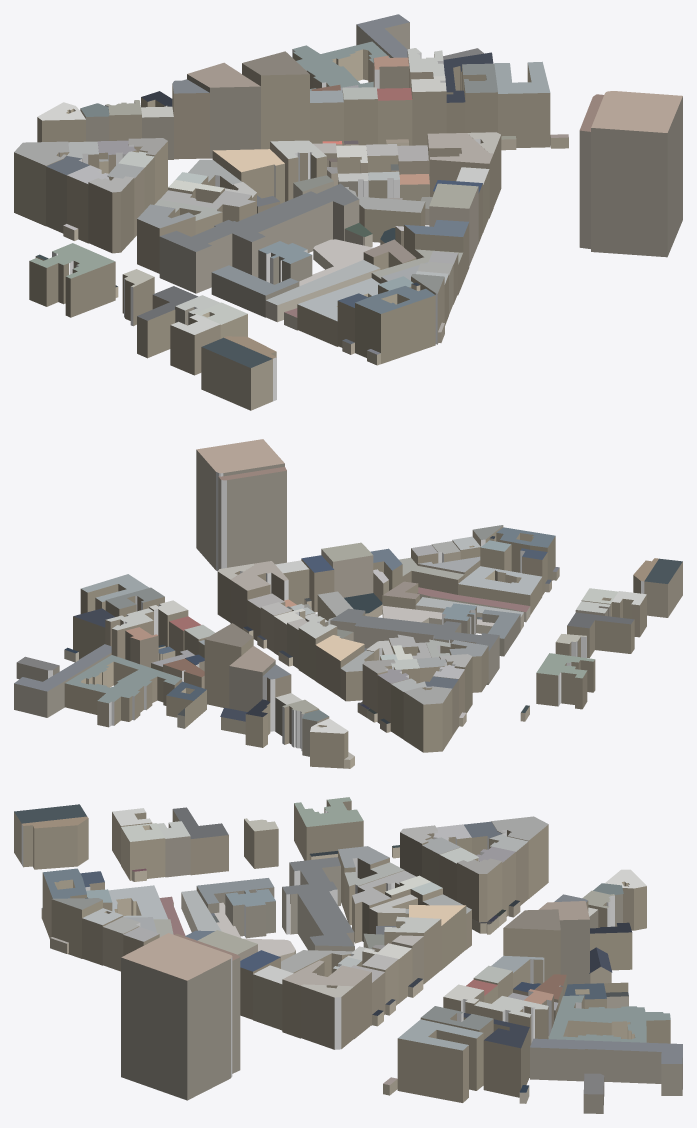
The picture shows the model from 3 angles, top to bottom: view 1: azimuth 30°, elevation 25°; view 2: azimuth 150°, elevation 25°; view 3: azimuth 270°, elevation 25°; orthographic projection. The views are drawn at different scales.
Parts seen in each view (by area): view 1: tuile; view 2: tuile; view 3: tuile.
Boxes of the visible parts, x1=… form: tuile: x1=14, y1=14, x2=682, y2=410; tuile: x1=14, y1=439, x2=682, y2=768; tuile: x1=14, y1=797, x2=682, y2=1113.
Size of the model in its own units: 274 by 59.96 by 284.
